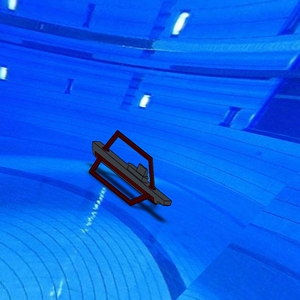submarine: (86, 128, 180, 224)
